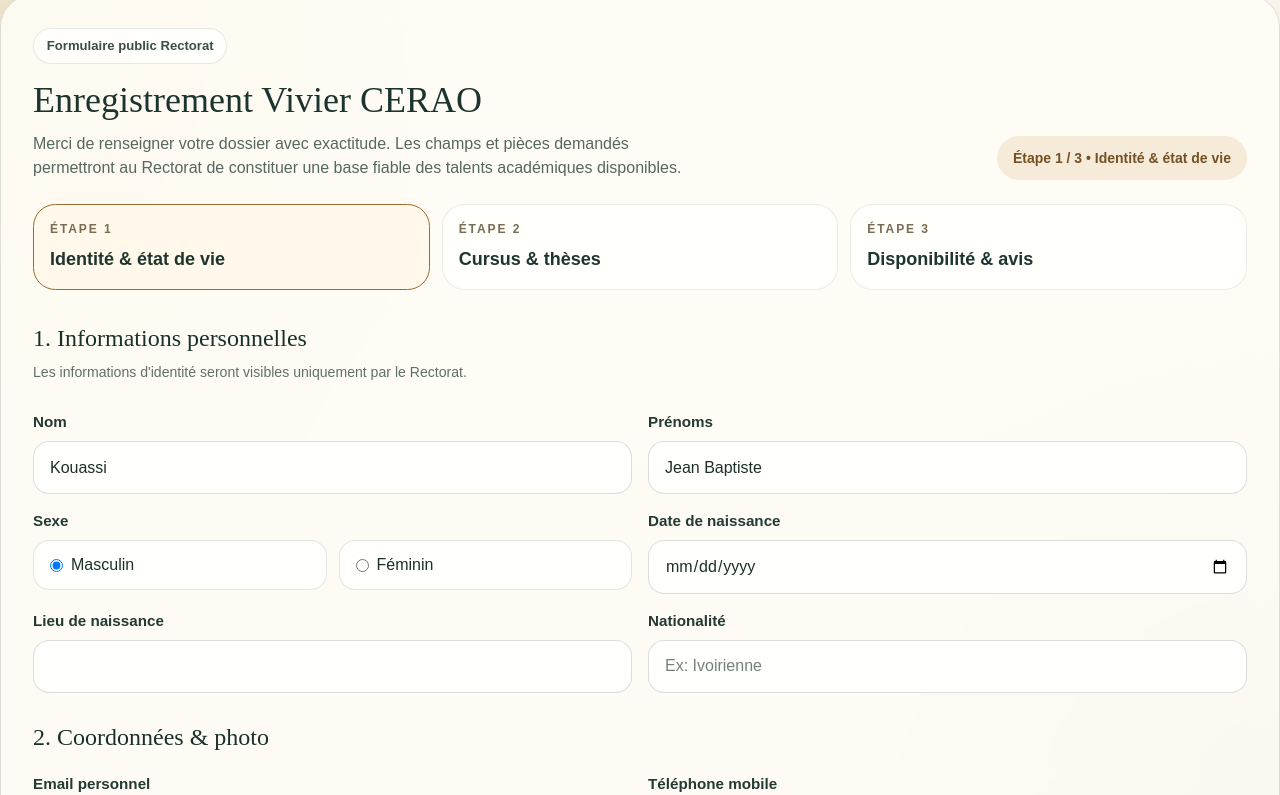
Scenario: ApplicationForm › permet d'ajouter un second diplome apres validation de l'etape 1
Earlier steps of the test are not shown.
Type "1985-08-14" into the date field labelled "Date de naissance" at (948, 567), box [648, 540, 1247, 594]
Type "Ivoirienne" into the field labelled "Nationalité" at (948, 666), box [648, 640, 1247, 693]
(page scrolled)
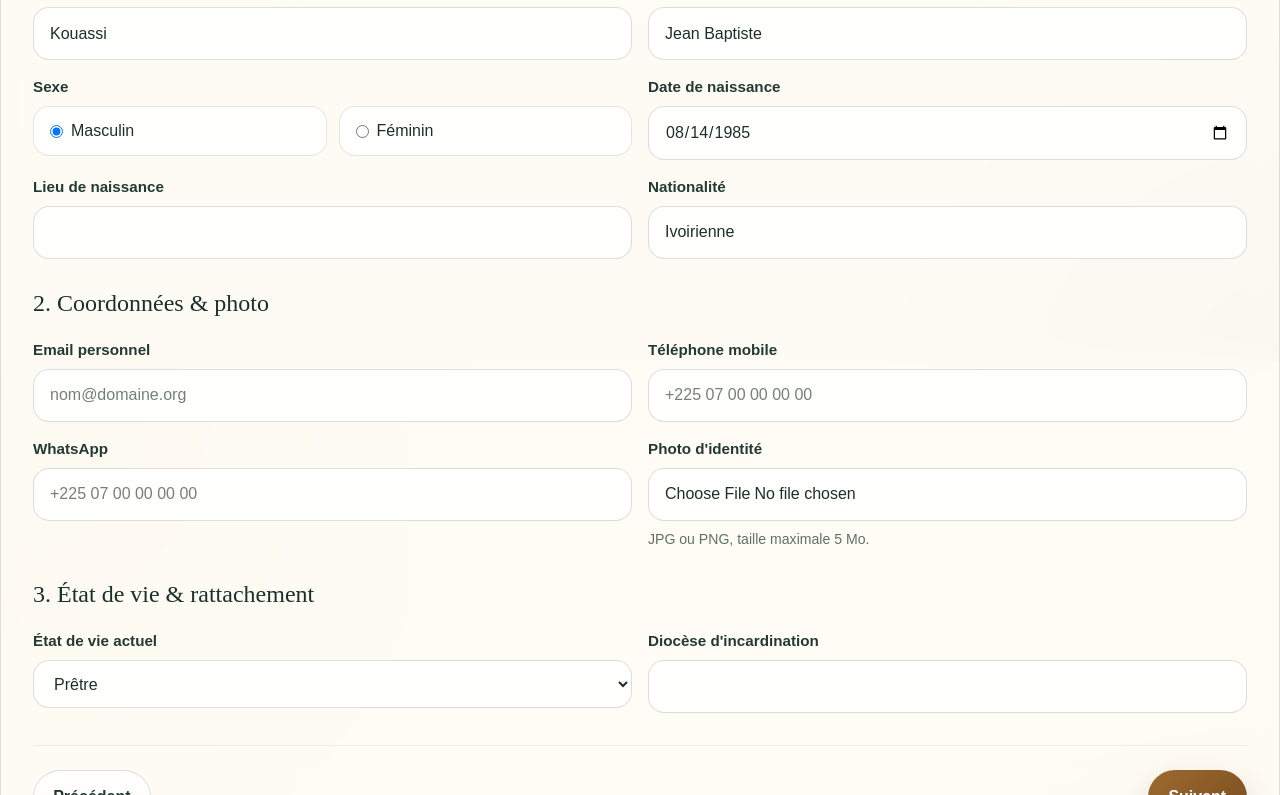
Type "+2250700000000" into the field labelled "Téléphone mobile" at (948, 395), box [648, 369, 1247, 422]
Type "+2250700000000" into the field labelled "WhatsApp" at (332, 494), box [33, 468, 632, 521]
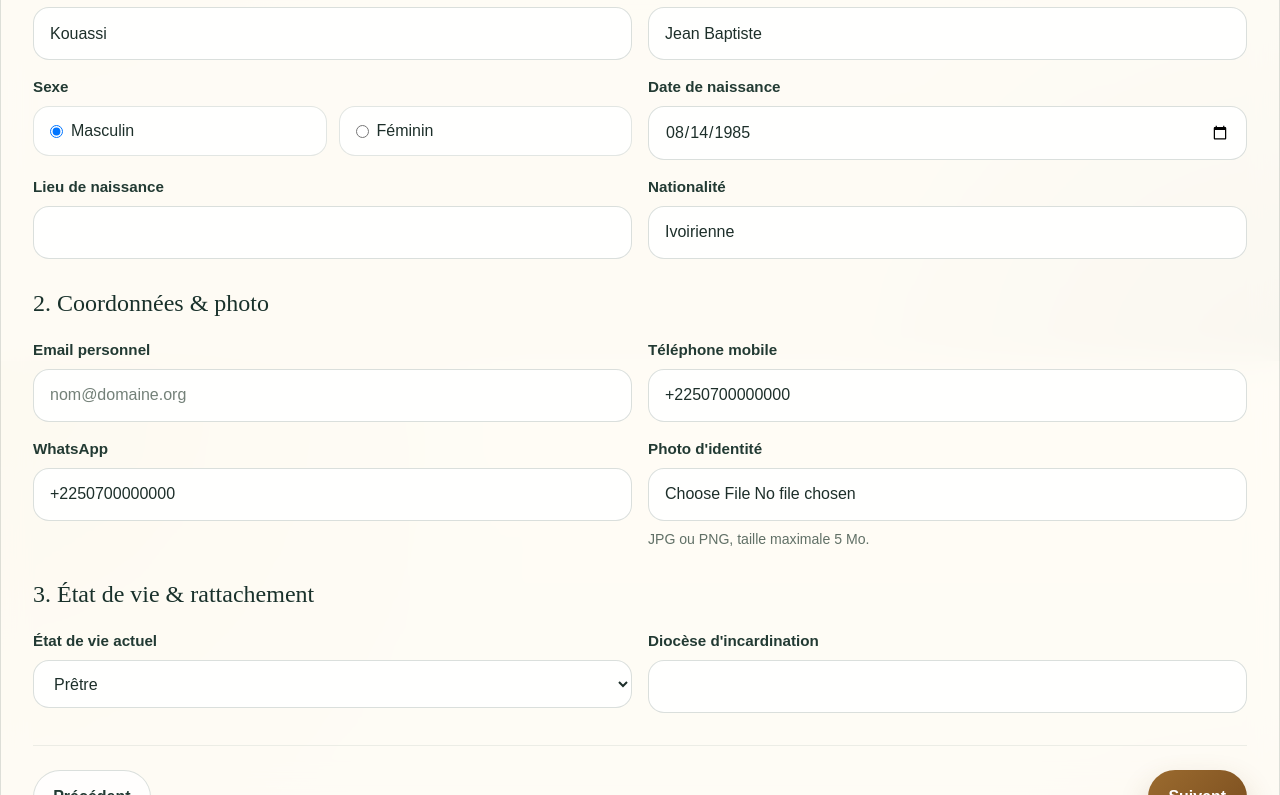
Type "jean@example.org" into the field labelled "Email personnel" at (332, 395), box [33, 369, 632, 422]
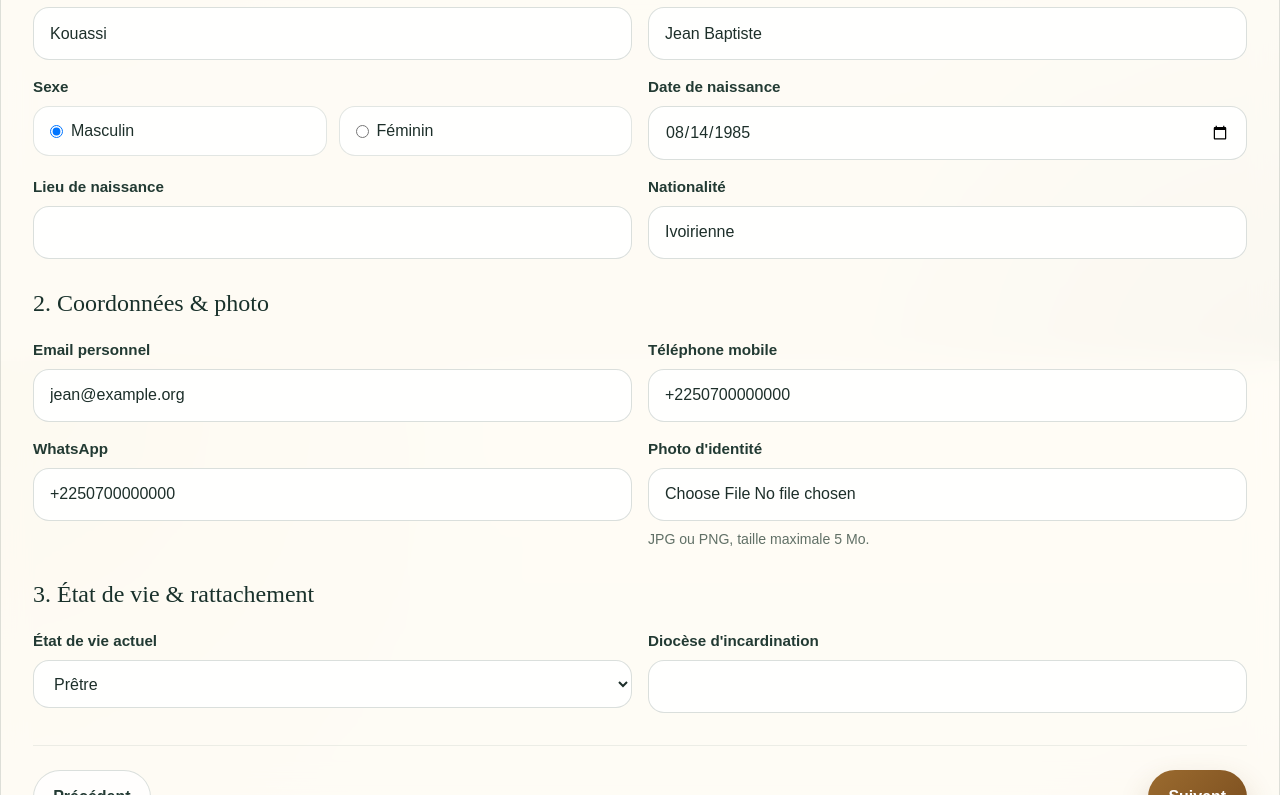
Type "Diocese de Yopougon" into the field labelled "Diocèse d'incardination" at (948, 687), box [648, 660, 1247, 713]
(page scrolled)
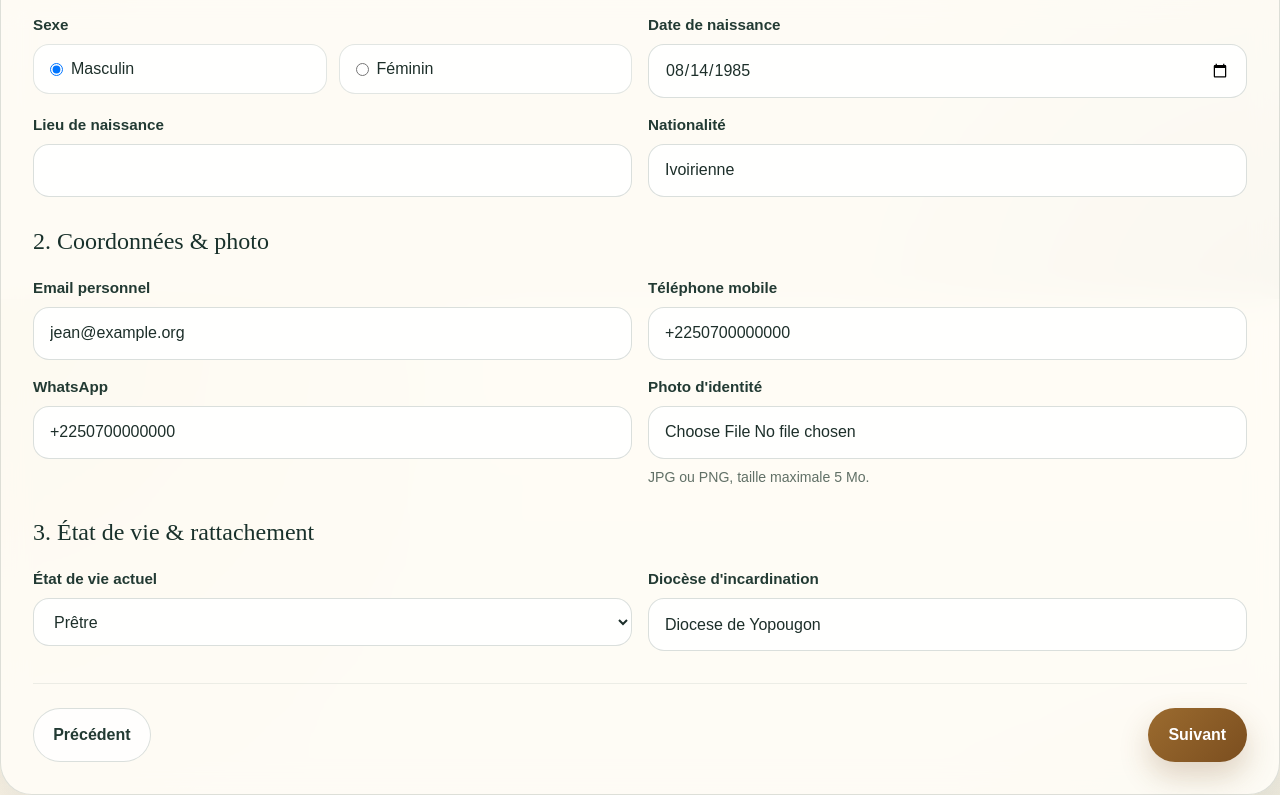
Click the button "Suivant" at (1197, 735), box [1148, 708, 1247, 762]
(page scrolled)
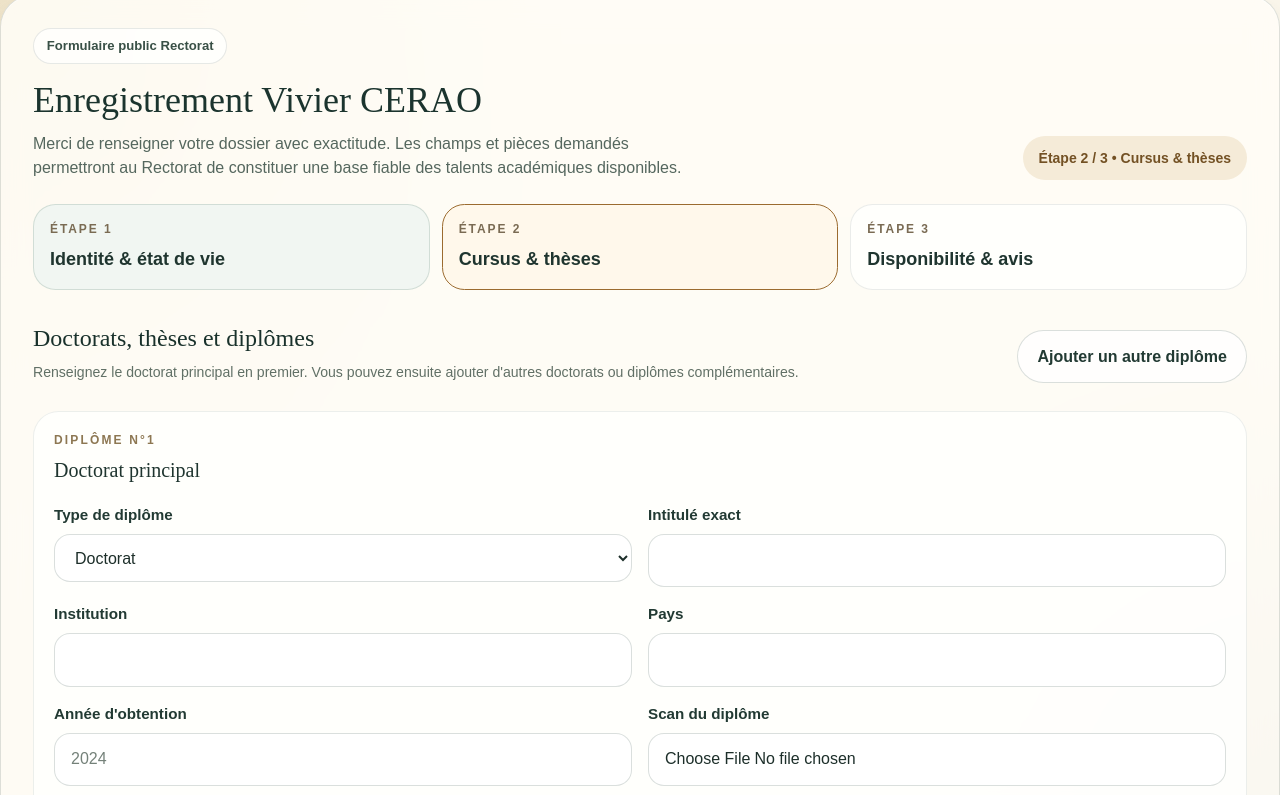
Check: the heading "Doctorat principal" is shown, box [54, 456, 200, 484]
Click the button "Ajouter un autre diplôme" at (1132, 357), box [1017, 330, 1247, 383]
(page scrolled)
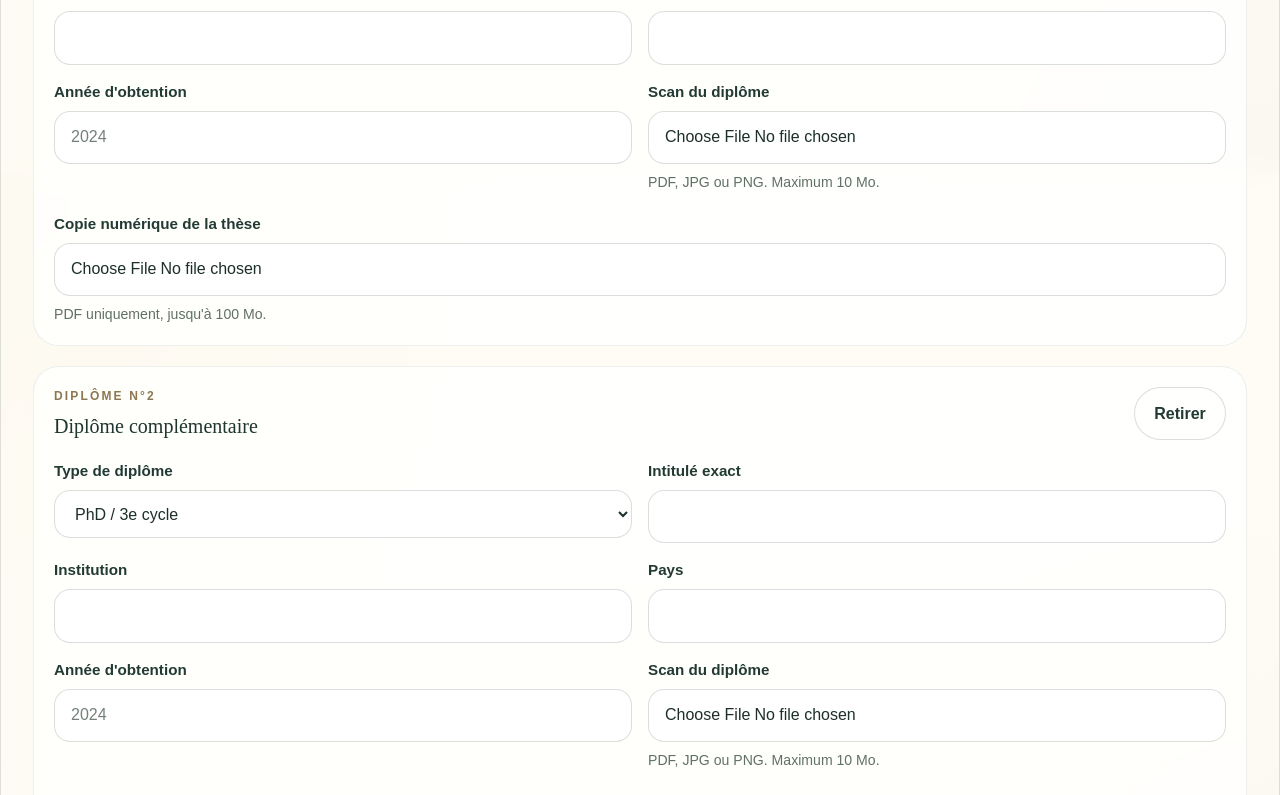
Check: the text "Diplôme n°2" is shown, box [54, 389, 156, 403]
